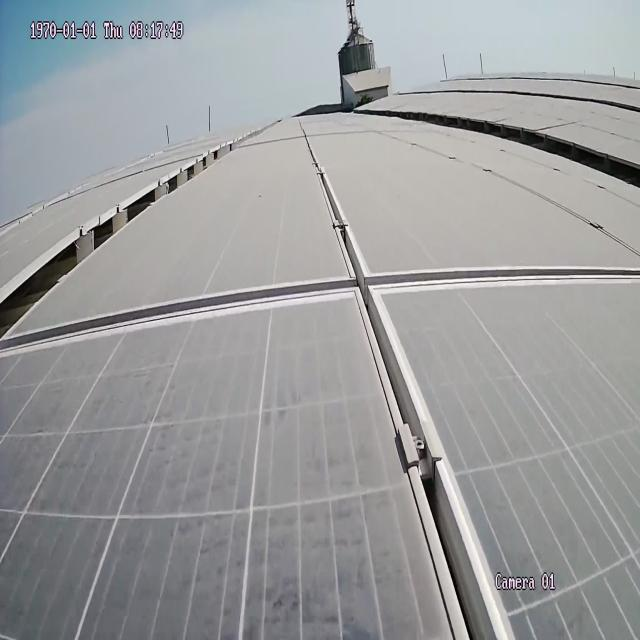interior panel: (317, 177, 494, 622), (28, 274, 347, 356), (387, 105, 635, 195), (375, 260, 626, 296)
outher panel: (1, 147, 231, 337)
